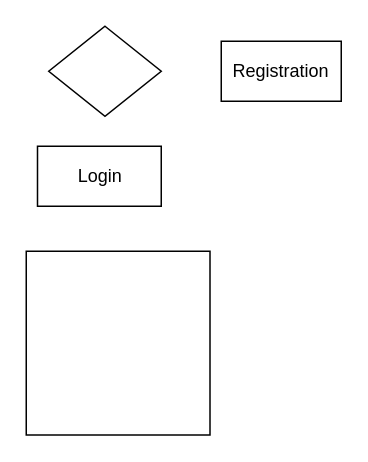
This 368x462 diagram has some shape labels left out. The centre of each missing label's shape, as x and y in pixels:
Dashboard 1.Assigned Trainings 2. Assessments List (running, past, upcoming): the point at 117,342
New User: the point at 104,70
